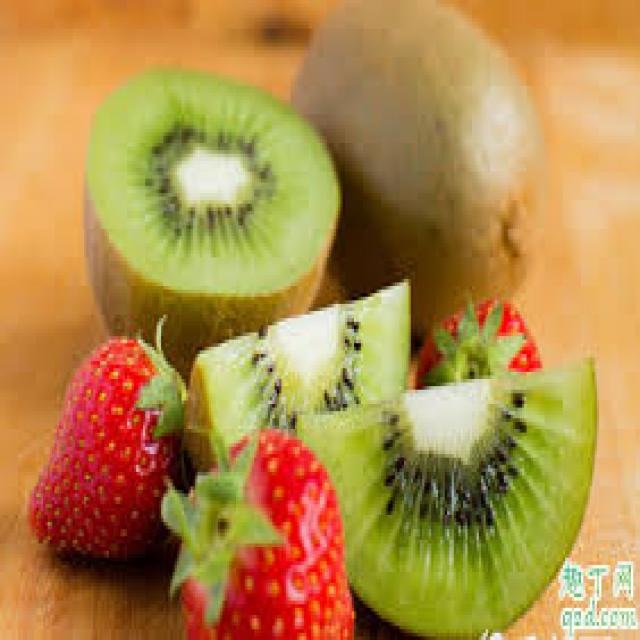organic waste: (290, 354, 592, 636), (284, 0, 547, 315), (80, 68, 338, 361), (27, 332, 216, 568), (161, 432, 352, 636), (170, 275, 409, 433), (413, 297, 545, 404)
